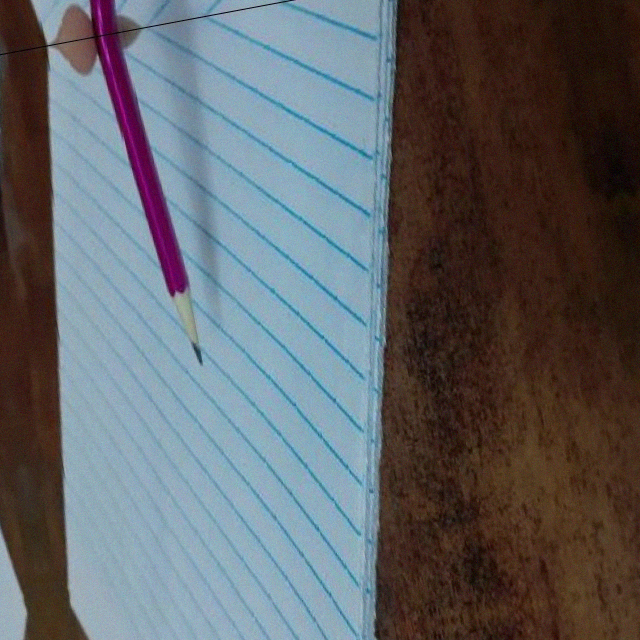pencil: (164, 288, 211, 371)
